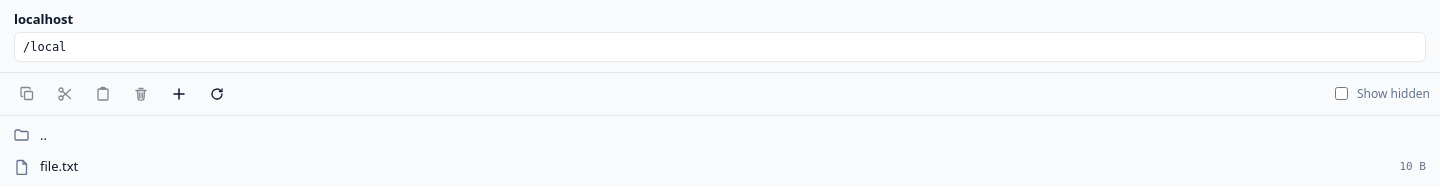
Test: SftpPane smoke › clicking a folder suggestion drills in with a trailing slash (no navigation)
The image size is (1440, 192).
Replace the text in the dropdown named "current path" with "/local/lo" at (720,46), box [14,32,1426,62]
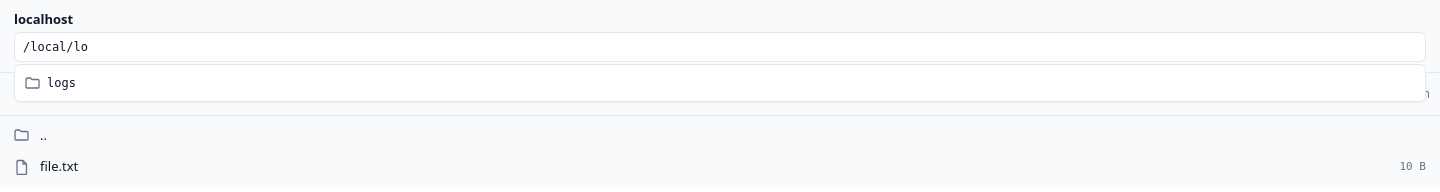
Press the mouse on the option "logs" at (50,82), box [25,74,76,90]
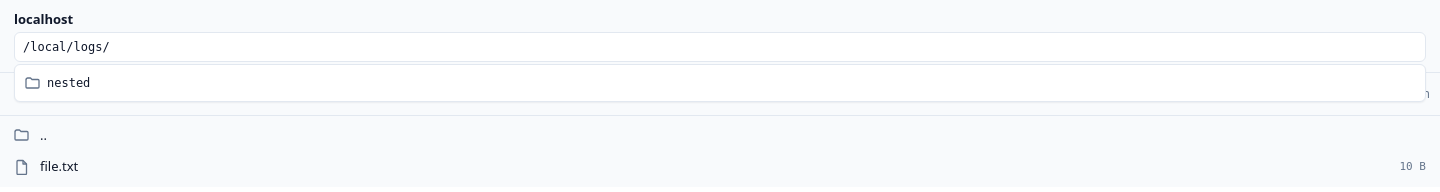
expect the dropdown named "current path" holds "/local/logs/": met, box [14,32,1426,62]
expect the option "nested" is shown: met, box [25,74,90,90]
